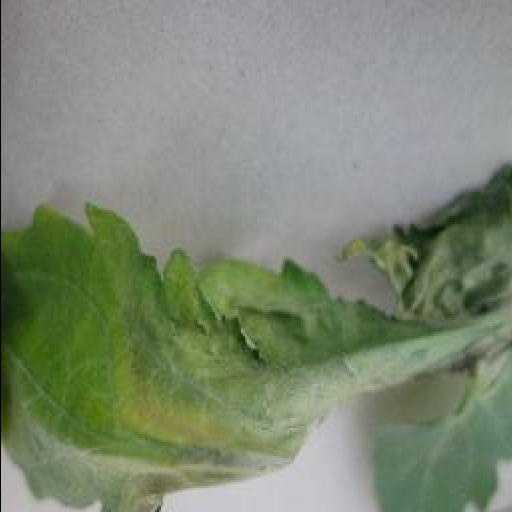disease_tomato: (0, 158, 512, 512)
